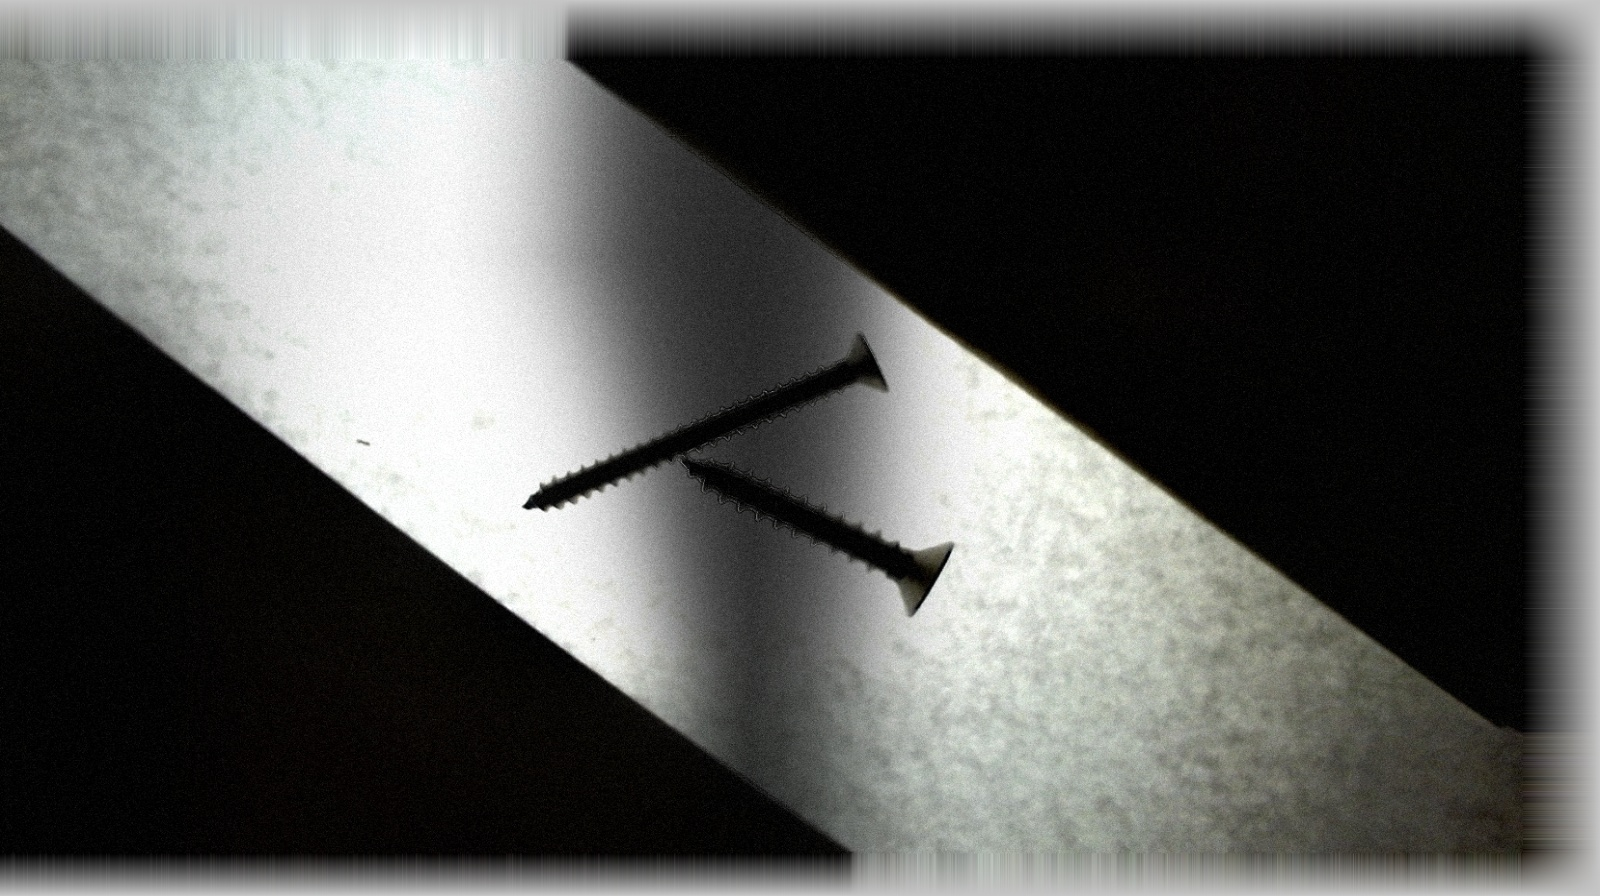S001: (673, 455, 959, 619)
S002: (516, 323, 890, 515)
